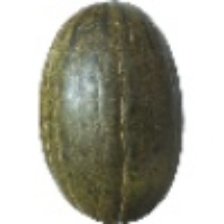honeydew: (9, 52, 197, 213)
